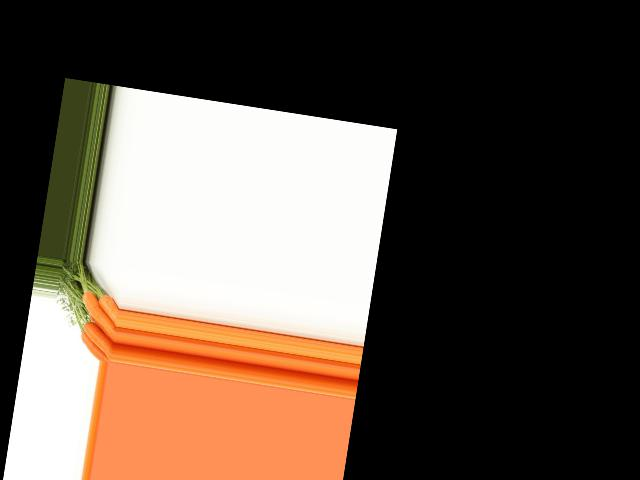carrot: (94, 293, 121, 324)
